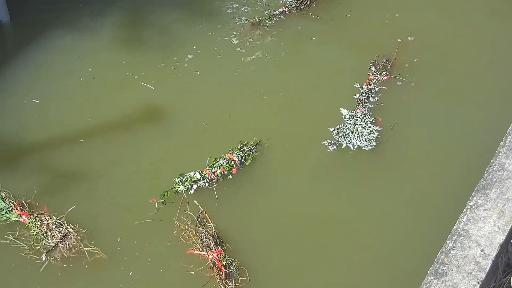twig: (315, 36, 412, 162), (156, 126, 267, 206), (163, 198, 253, 288), (0, 187, 112, 259), (247, 0, 329, 42)
